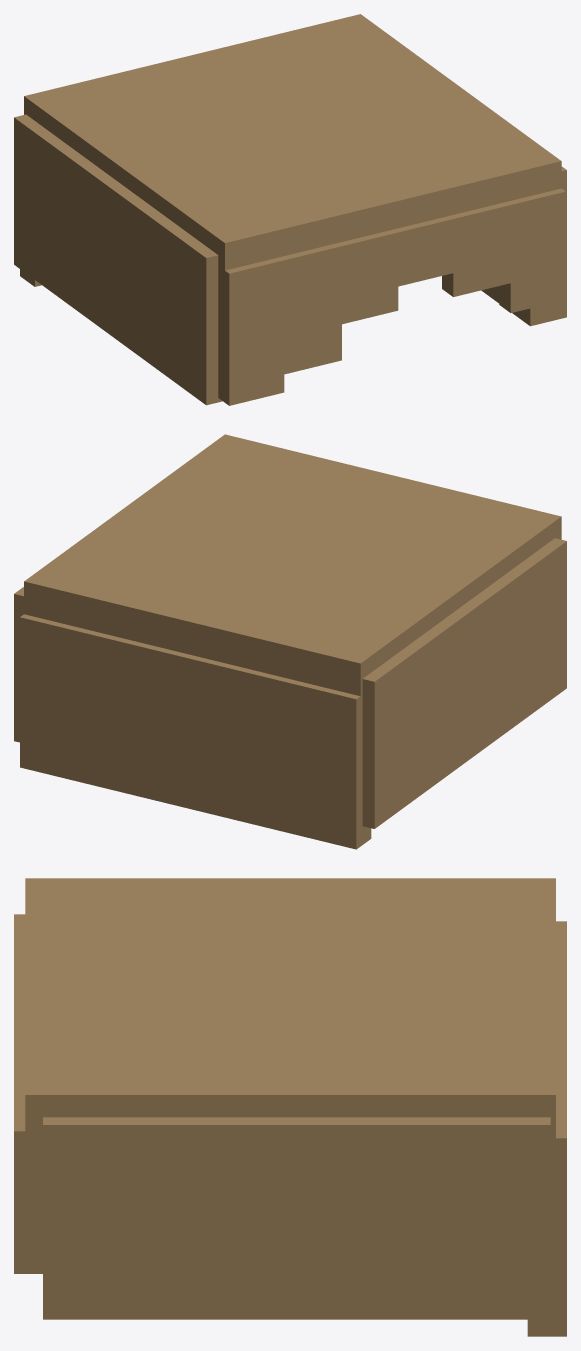
File: hair_short.glb
3 renders of one model, top to bottom at view 1: azimuth 30°, elevation 25°; view 2: azimuth 150°, elevation 25°; view 3: azimuth 270°, elevation 25°, orthographic. The views are drawn at different scales.
Parts seen in each view (by area): view 1: char_hair_visual; view 2: char_hair_visual; view 3: char_hair_visual.
Boxes of the visible parts, <box> form: char_hair_visual: <box>14,14,566,405</box>; char_hair_visual: <box>14,434,566,849</box>; char_hair_visual: <box>14,878,566,1336</box>.
Bounding box in the file's own units: 0.628 × 0.3045 × 0.6315.
